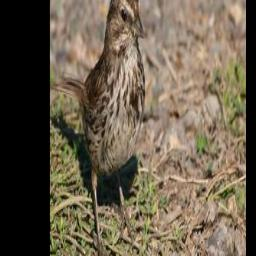Sparrow: (51, 0, 146, 256)
